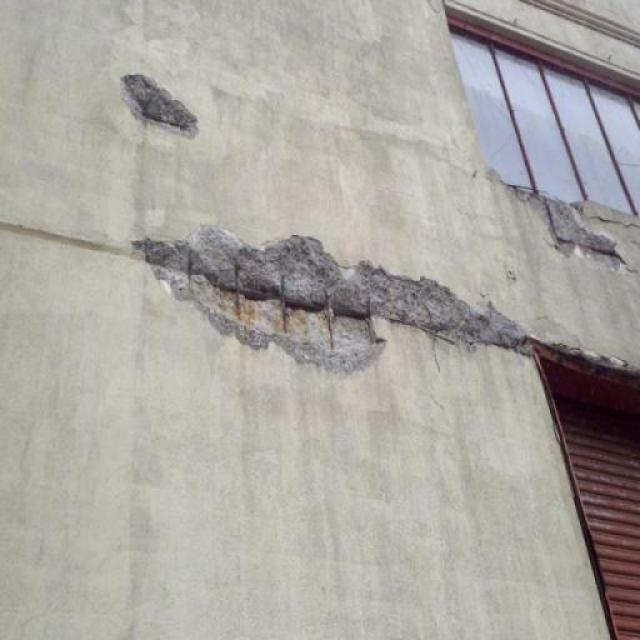D0w0: (134, 225, 528, 371), (515, 189, 625, 269), (121, 74, 198, 136)
